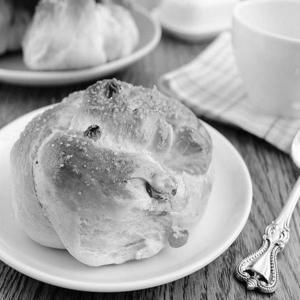bread: (3, 92, 223, 262)
